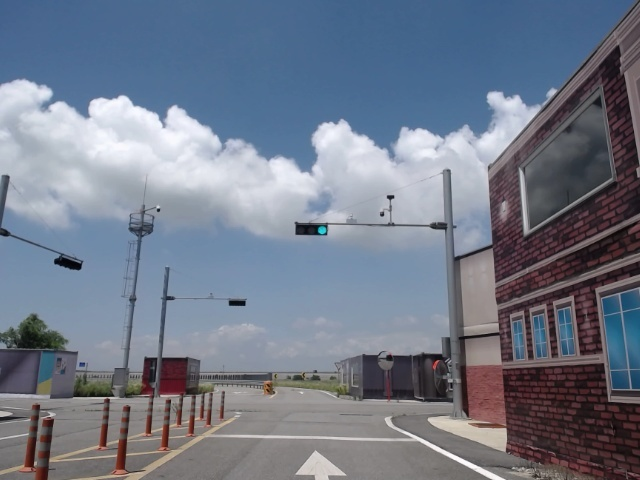green_3: (295, 225, 328, 235)
